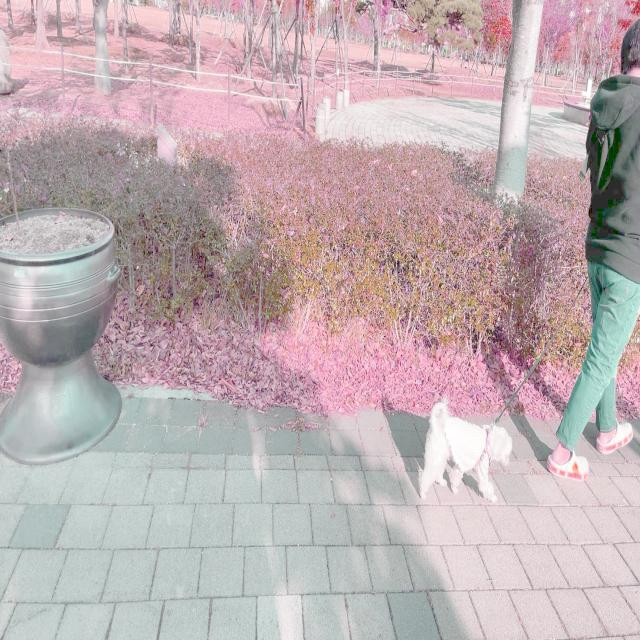Leashed_Dog: (417, 230, 613, 500)
